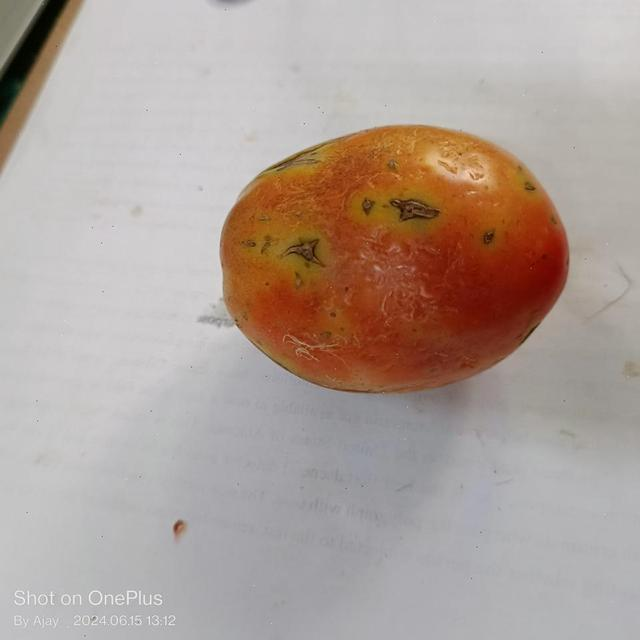Bacterial Spot Fruit: (12, 14, 354, 165)
